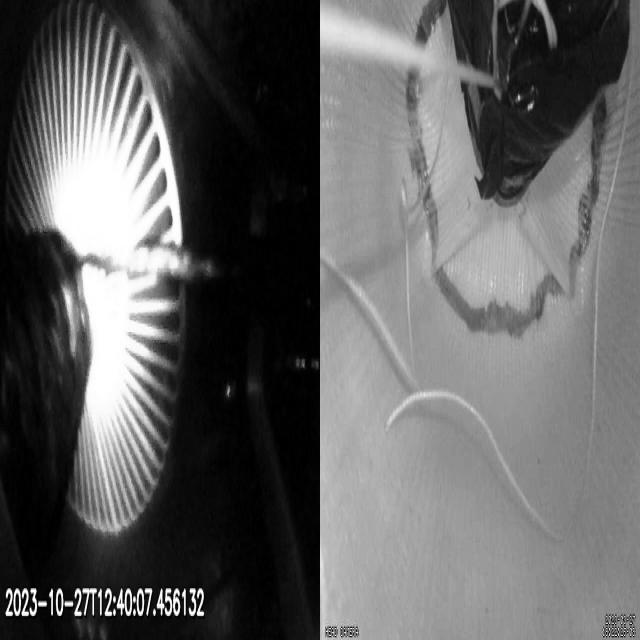red-circle: (406, 0, 608, 339)
